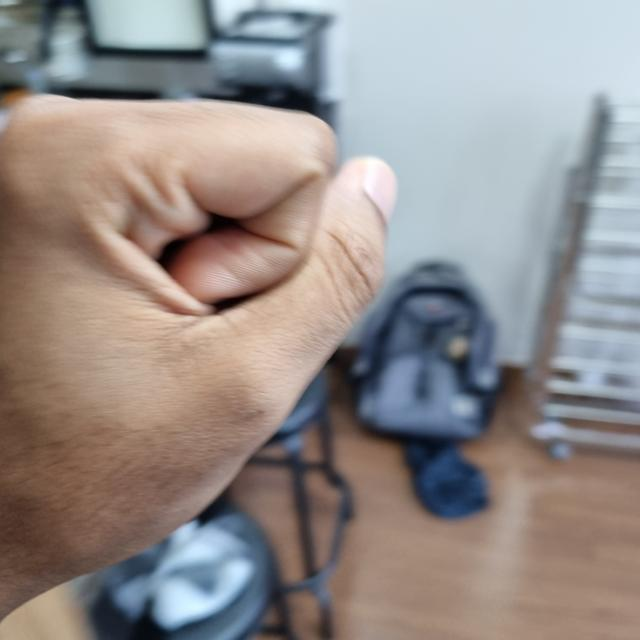Rock: (0, 97, 399, 598)
